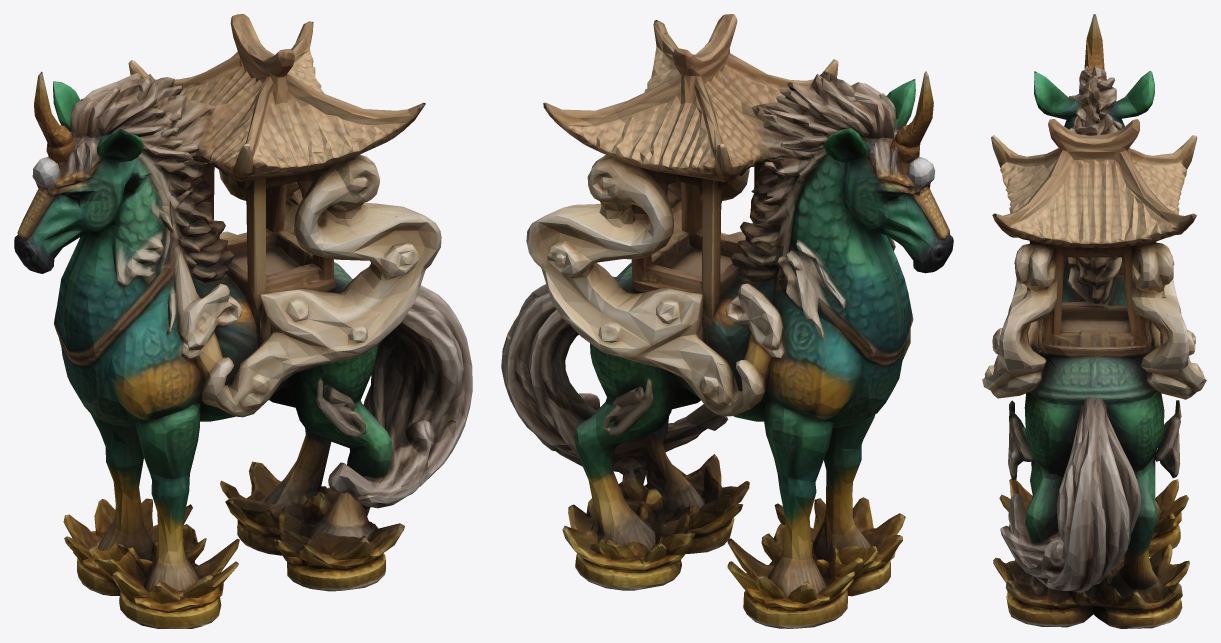
The model's file is kirinth__sanctuaryQilin.glb.
The picture shows the model from 3 angles, left to right: view 1: azimuth 30°, elevation 25°; view 2: azimuth 150°, elevation 25°; view 3: azimuth 270°, elevation 25°; orthographic projection. The views are drawn at different scales.
Visible parts, largest first — view 1: world; view 2: world; view 3: world.
Boxes of the visible parts, x1=… form: world: x1=14, y1=14, x2=472, y2=628; world: x1=501, y1=14, x2=953, y2=628; world: x1=982, y1=14, x2=1206, y2=628.
Size of the model in its own units: 0.8421 by 0.9964 by 0.4215.
1 material, 1 textured.
